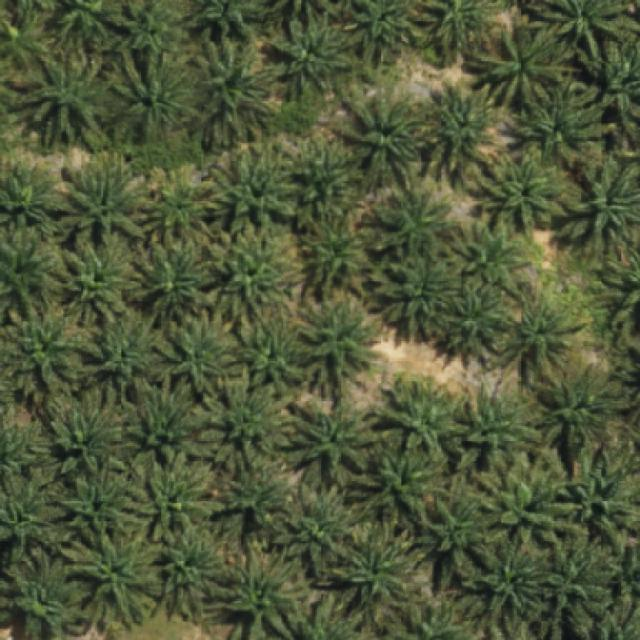Kelapa_Sawit: (476, 452, 592, 551), (462, 20, 582, 112), (192, 375, 299, 473), (191, 36, 284, 147), (208, 218, 306, 322), (18, 50, 119, 148), (39, 389, 138, 486), (542, 363, 629, 471), (334, 89, 426, 191), (64, 526, 161, 622), (212, 535, 300, 640), (292, 292, 386, 390), (131, 449, 224, 548), (334, 519, 418, 626), (510, 84, 615, 168), (535, 536, 620, 638), (278, 480, 367, 577), (292, 392, 391, 477), (425, 493, 509, 593), (296, 200, 381, 298), (62, 151, 152, 243), (208, 150, 304, 236), (421, 79, 499, 184), (362, 444, 453, 534), (130, 236, 218, 329), (379, 375, 473, 462), (272, 2, 359, 95), (476, 152, 572, 236), (379, 247, 464, 341), (457, 380, 545, 469), (56, 236, 142, 327), (110, 51, 199, 138), (58, 455, 142, 547), (209, 451, 296, 538), (160, 307, 242, 399), (76, 312, 164, 396), (146, 522, 222, 618), (123, 374, 200, 468), (561, 462, 640, 551), (508, 298, 590, 382), (136, 162, 222, 242), (371, 184, 458, 262), (470, 540, 544, 631), (457, 221, 534, 301), (438, 283, 514, 362), (290, 132, 364, 212), (10, 314, 82, 395), (241, 314, 302, 392)
